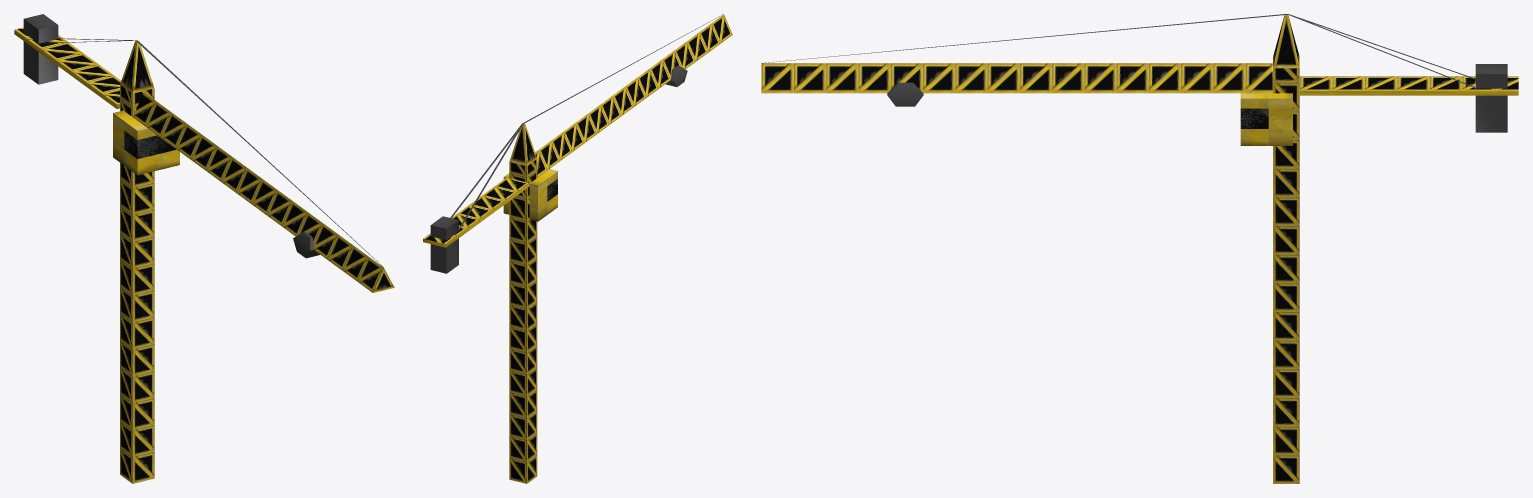
File: site_crane_construction_hyper_low_poly.glb
3 renders of one model, left to right at view 1: azimuth 30°, elevation 25°; view 2: azimuth 150°, elevation 25°; view 3: azimuth 270°, elevation 25°, orthographic. The views are drawn at different scales.
Visible parts, largest first — view 1: Cube, Cube.001, Cube.003, Cube.002, Cube.004, Plane, Cube.005; view 2: Cube, Cube.001, Cube.002, Cube.003, Cube.004, Plane; view 3: Cube.001, Cube, Cube.002, Cube.003, Cube.004, Plane.
Boxes of the visible parts, left/top/right/bottom form: Cube: left=120, top=41, right=154, bottom=483; Cube.001: left=133, top=92, right=394, bottom=292; Cube.003: left=113, top=110, right=179, bottom=175; Cube.002: left=14, top=27, right=120, bottom=108; Cube.004: left=23, top=14, right=58, bottom=84; Plane: left=39, top=38, right=382, bottom=266; Cube.005: left=293, top=232, right=320, bottom=258; Cube: left=509, top=123, right=537, bottom=483; Cube.001: left=535, top=14, right=732, bottom=177; Cube.002: left=423, top=177, right=529, bottom=247; Cube.003: left=503, top=169, right=557, bottom=221; Cube.004: left=430, top=216, right=458, bottom=273; Plane: left=450, top=14, right=723, bottom=230; Cube.001: left=761, top=63, right=1272, bottom=93; Cube: left=1273, top=15, right=1299, bottom=483; Cube.002: left=1300, top=76, right=1518, bottom=95; Cube.003: left=1240, top=77, right=1292, bottom=145; Cube.004: left=1475, top=64, right=1507, bottom=132; Plane: left=762, top=14, right=1475, bottom=87.
Bounding box in the file's own units: 390 × 3813 × 5646.
1 material, 1 textured.
